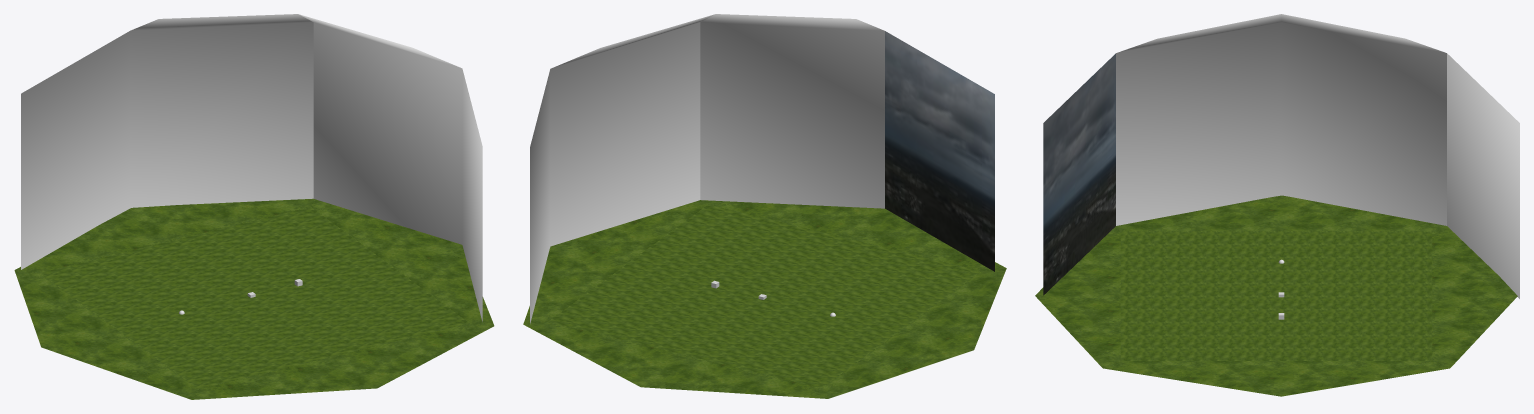
3 renders of one model, left to right at view 1: azimuth 30°, elevation 25°; view 2: azimuth 150°, elevation 25°; view 3: azimuth 270°, elevation 25°, orthographic. The views are drawn at different scales.
Visible parts, largest first — view 1: skbox, Rectangle01; view 2: skbox, Rectangle01; view 3: skbox, Rectangle01.
Part boxes in pixels (x1,y1,x2,y2): skbox: (21, 14, 482, 321); Rectangle01: (14, 198, 494, 399); skbox: (530, 14, 994, 323); Rectangle01: (523, 200, 1006, 398); skbox: (1043, 14, 1519, 298); Rectangle01: (1035, 195, 1517, 396).
Bounding box in the file's own units: 166 × 98.2 × 169.
Materials: 11 (2 with a texture image).
